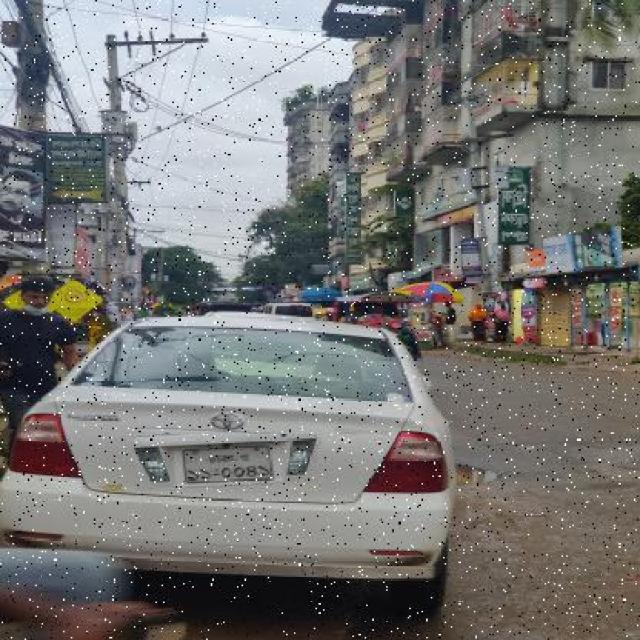numberplate: (134, 434, 317, 491), (176, 443, 270, 483)
